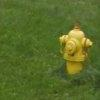Hydrant: (57, 13, 91, 81)
